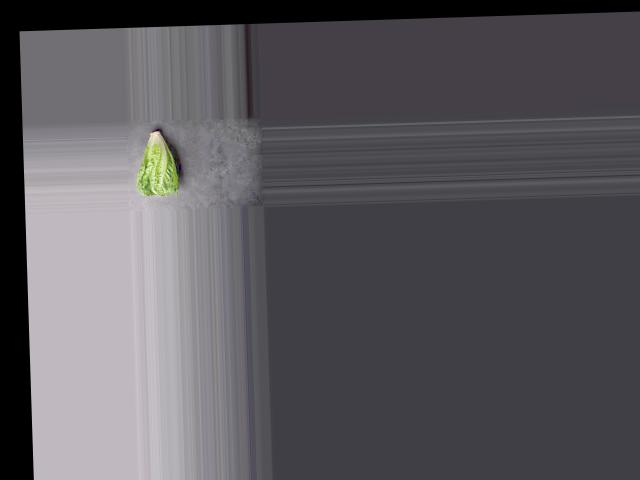lettuce: (133, 125, 181, 197)
